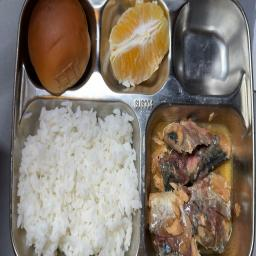100_bread: (28, 0, 91, 93)
100_fish: (148, 122, 232, 255)
100_orange: (109, 2, 169, 87)
100_rice: (28, 104, 135, 255)
empty: (174, 9, 238, 94)
